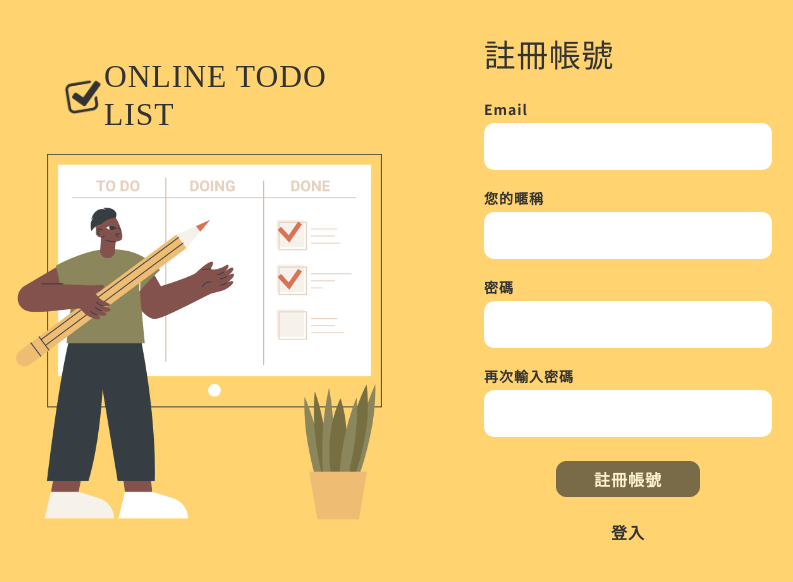
Test: SignUpPage › Interations › 點擊註冊按鈕，將用戶email、暱稱、密碼送至後端API
Type "hsuifang@gmail.com" into the field labelled "Email" at (628, 146), box [484,123,772,170]
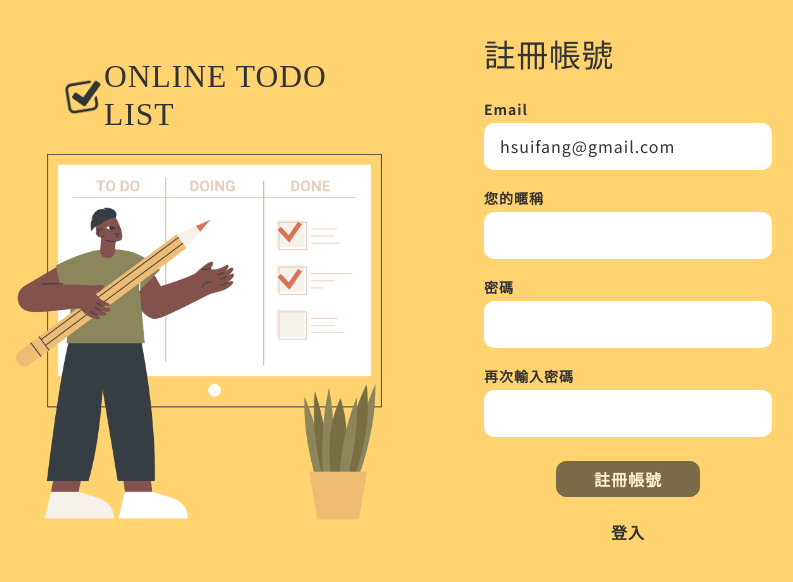
Type "hsuifang" into the field labelled "您的暱稱" at (628, 235), box [484,212,772,259]
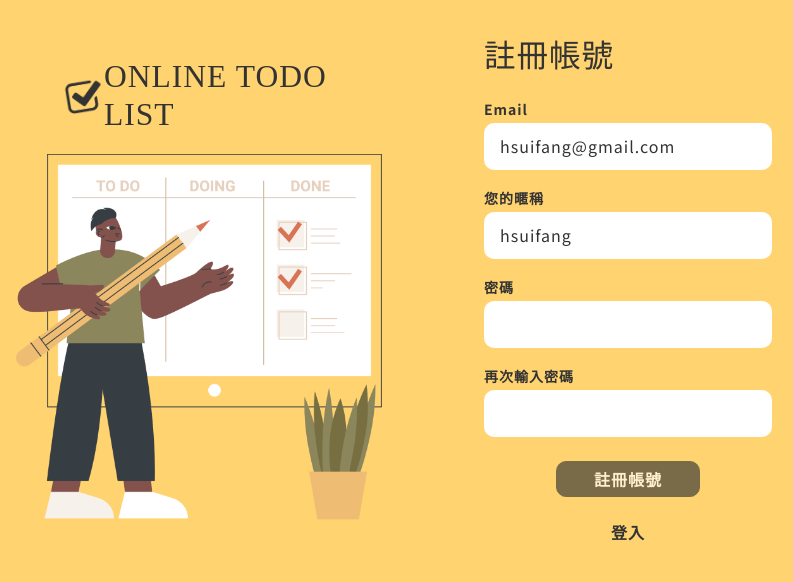
Type "asdf@123456" into the password field labelled "密碼" at (628, 324), box [484,301,772,348]
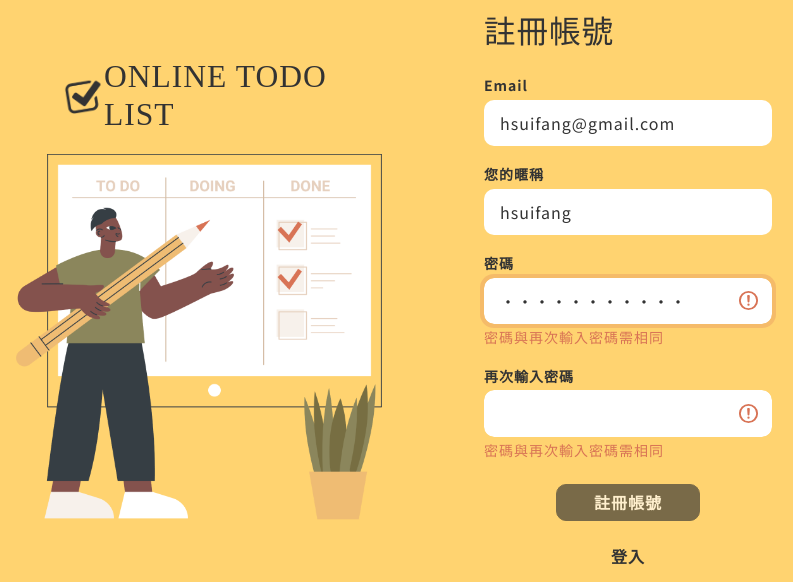
Type "asdf@123456" into the password field labelled "再次輸入密碼" at (628, 413), box [484,390,772,436]
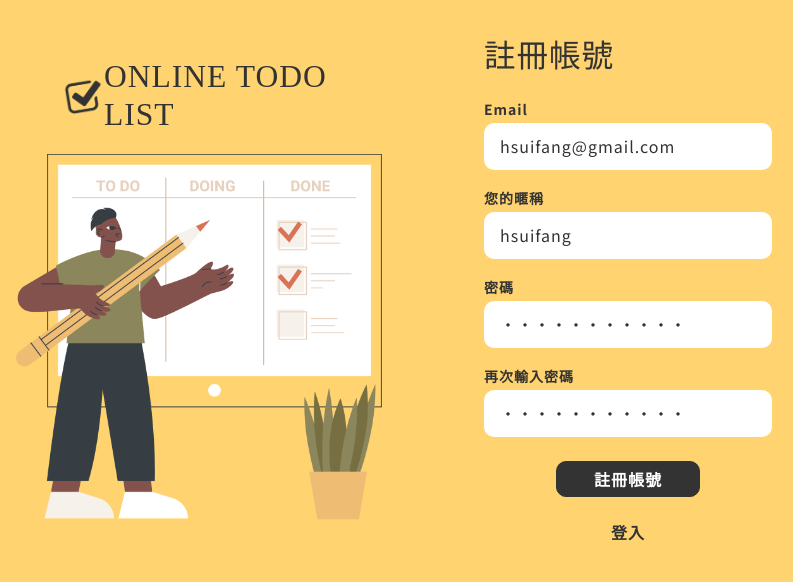
Click the button "註冊帳號" at (628, 479), box [556,460,700,497]
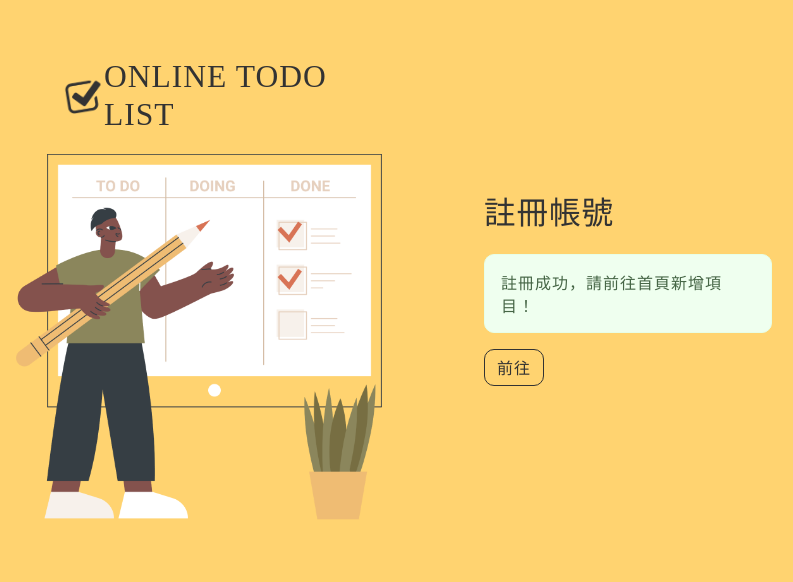
Expected: the text "註冊成功，請前往首頁新增項目！" is shown, [501,271,755,316]
